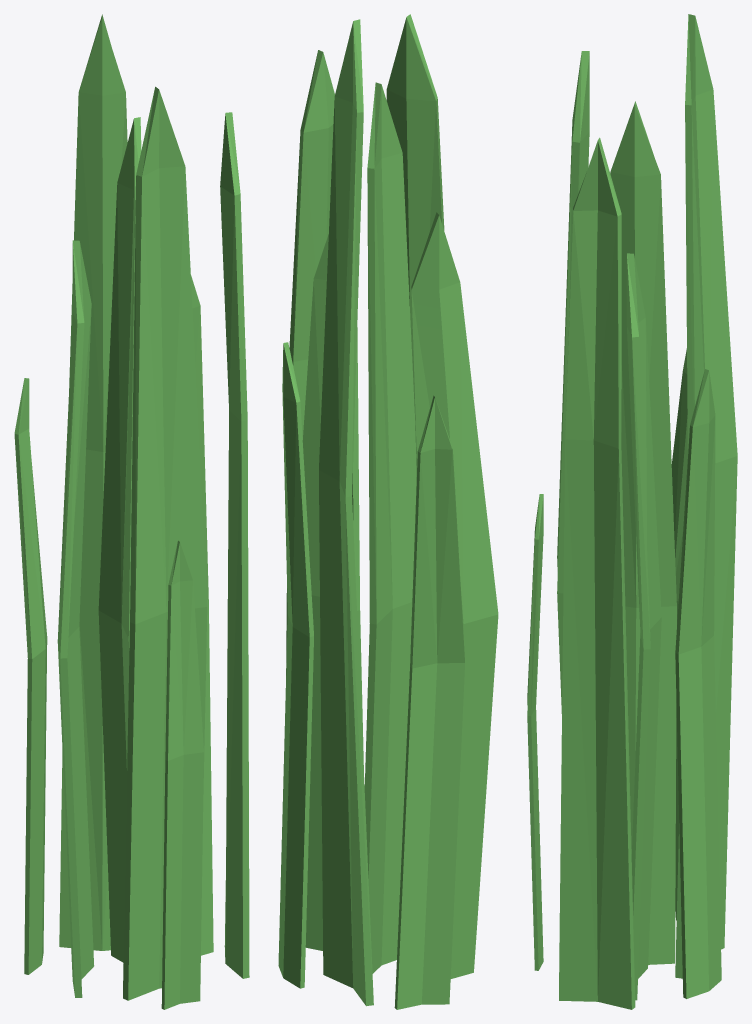
File: tropical_plant_3.glb
The picture shows the model from 3 angles, left to right: view 1: azimuth 30°, elevation 25°; view 2: azimuth 150°, elevation 25°; view 3: azimuth 270°, elevation 25°; orthographic projection. The views are drawn at different scales.
Visible parts, largest first — view 1: Tropical_plant_003; view 2: Tropical_plant_003; view 3: Tropical_plant_003.
Part boxes in pixels (x1,y1,x2,y2): Tropical_plant_003: (14,14,249,1009); Tropical_plant_003: (278,14,498,1009); Tropical_plant_003: (527,14,737,1009).
Bounding box in the file's own units: 0.217 × 1.01 × 0.2038.
Materials: 1 (1 with a texture image).
